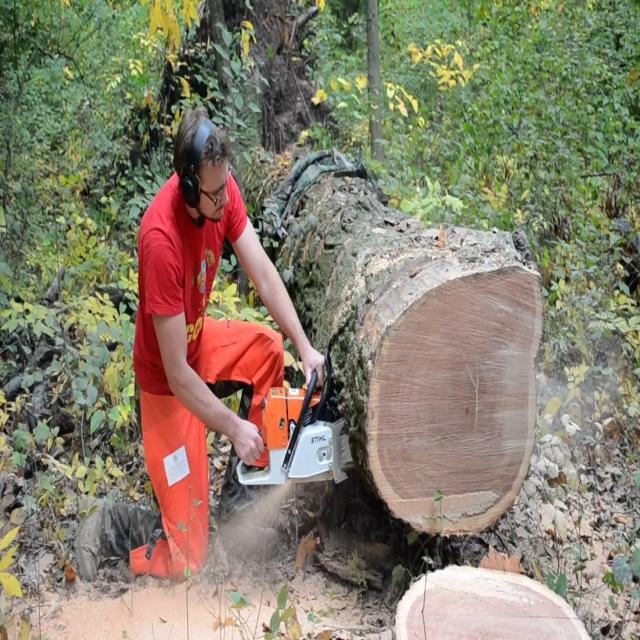Chainsaw: (232, 364, 356, 494)
